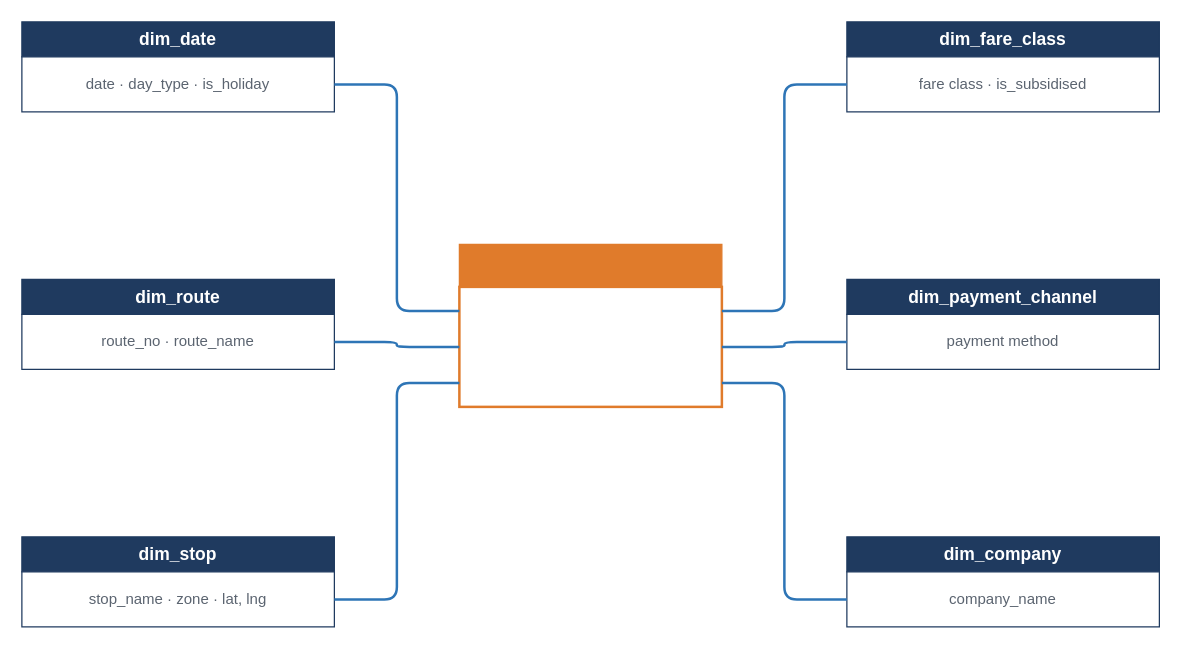
This 1181x649 diagram has some shape labels left out. The shapes that lost their labels are listed below. From the top down, each one's centre as x and y in pixels, then its label:
the point at 590,265: fact_boardings
the point at 590,346: boardings the measure 17.9 M rows six dimension keys
